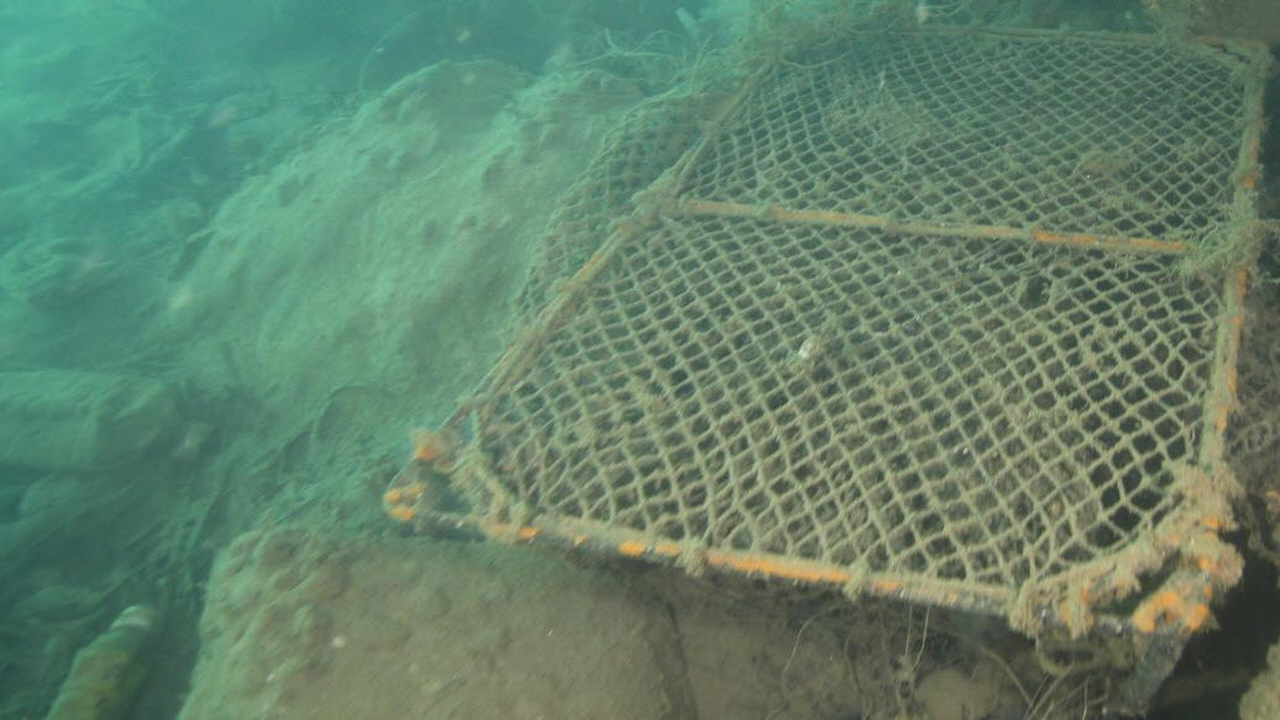circular fish trap: (380, 17, 1271, 638)
